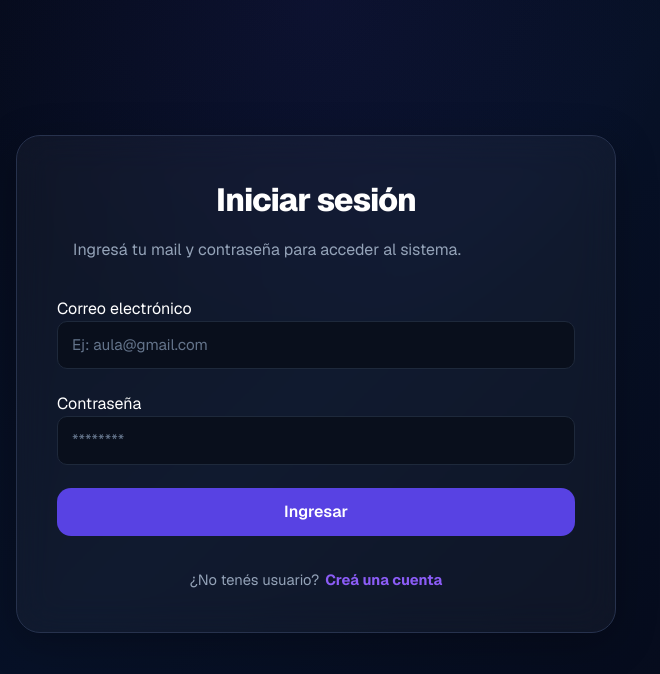
Test: Pagina Login <Login> › debería mostrar error si las credenciales son incorrectas
Type "error@gmail.com" into the field with placeholder "Ej: aula@gmail.com" at (316, 345), box left=57, top=321, right=575, bottom=369
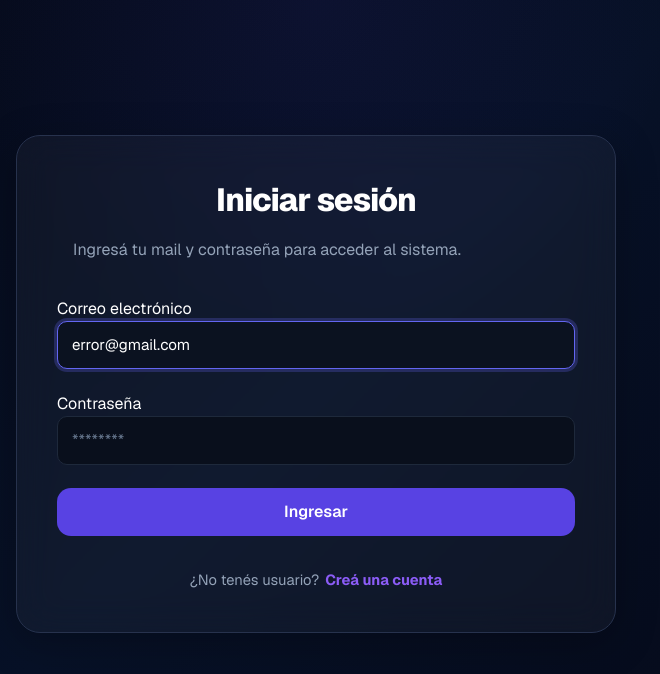
Type "claveErronea" into the password field with placeholder "********" at (316, 441), box left=57, top=416, right=575, bottom=465
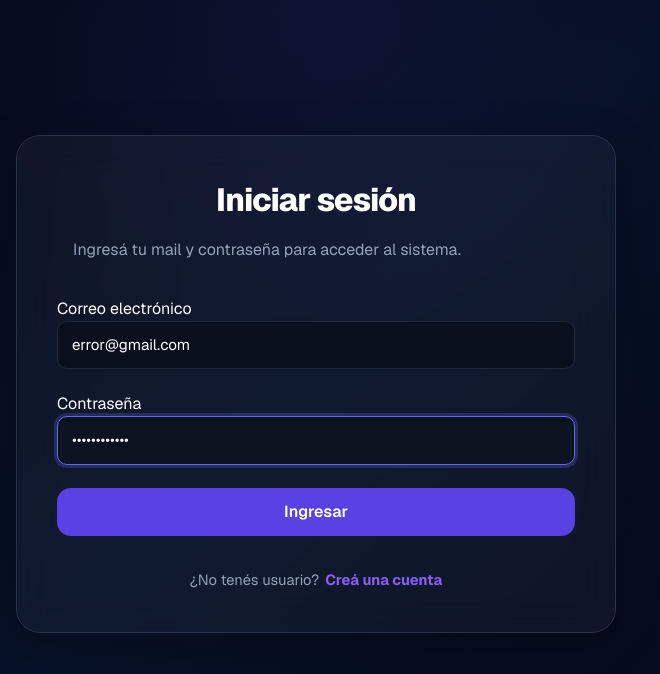
Click the button "Ingresar" at (316, 512), box left=57, top=488, right=575, bottom=536
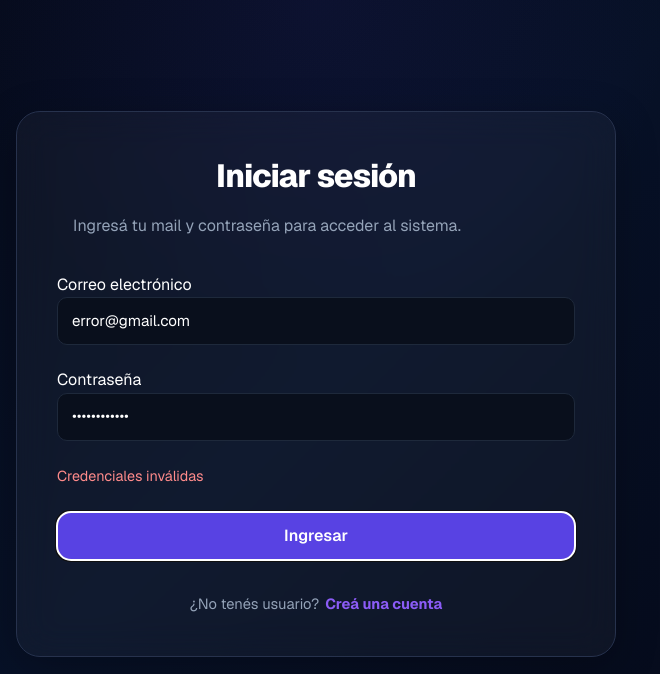
Expected: the text "Credenciales inválidas" is shown, left=57, top=467, right=204, bottom=485
